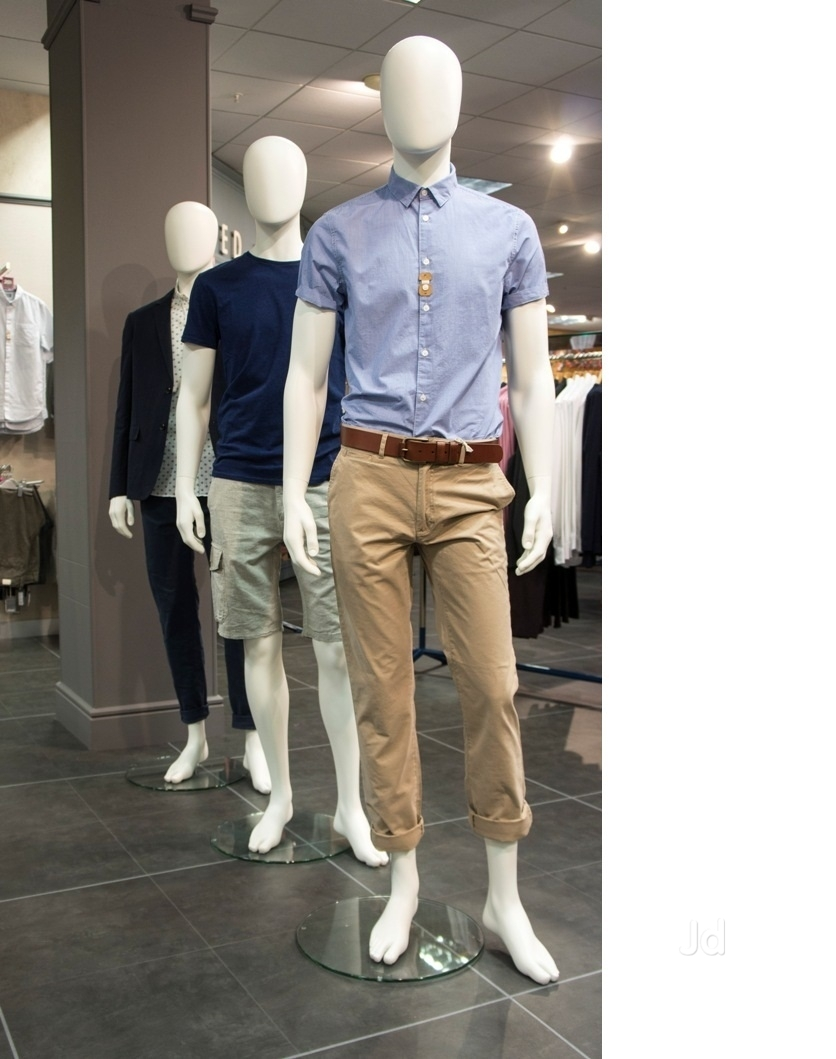person-like: (280, 28, 569, 994), (163, 123, 394, 875), (103, 189, 274, 798)
